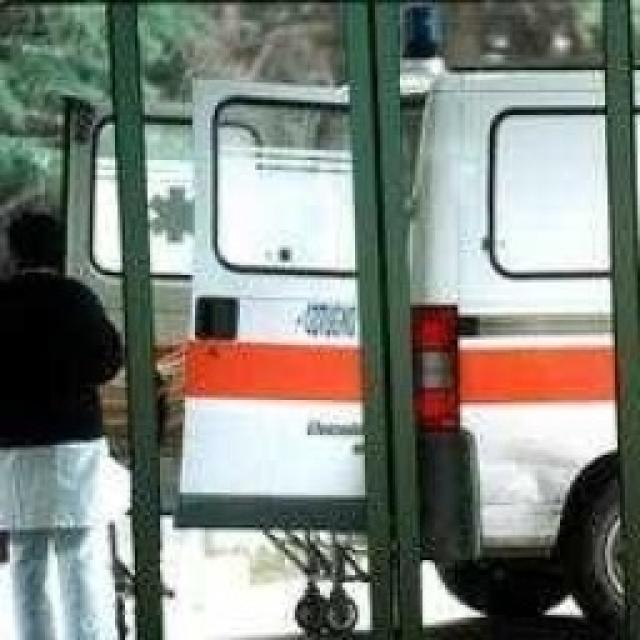emergency-vehicle: (156, 50, 640, 617)
